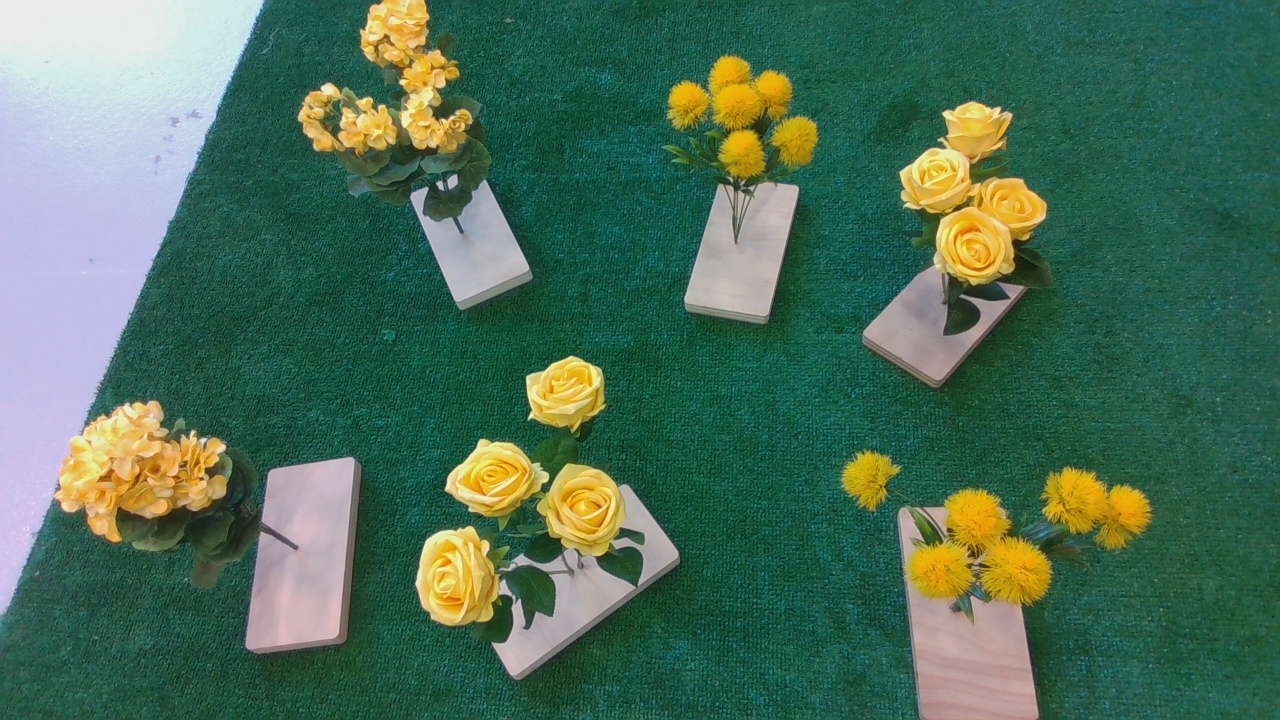dandelion: (819, 441, 1163, 617), (662, 47, 827, 202)
geranium: (295, 2, 500, 226), (57, 397, 267, 570)
rose: (417, 358, 650, 642), (898, 96, 1066, 338)
